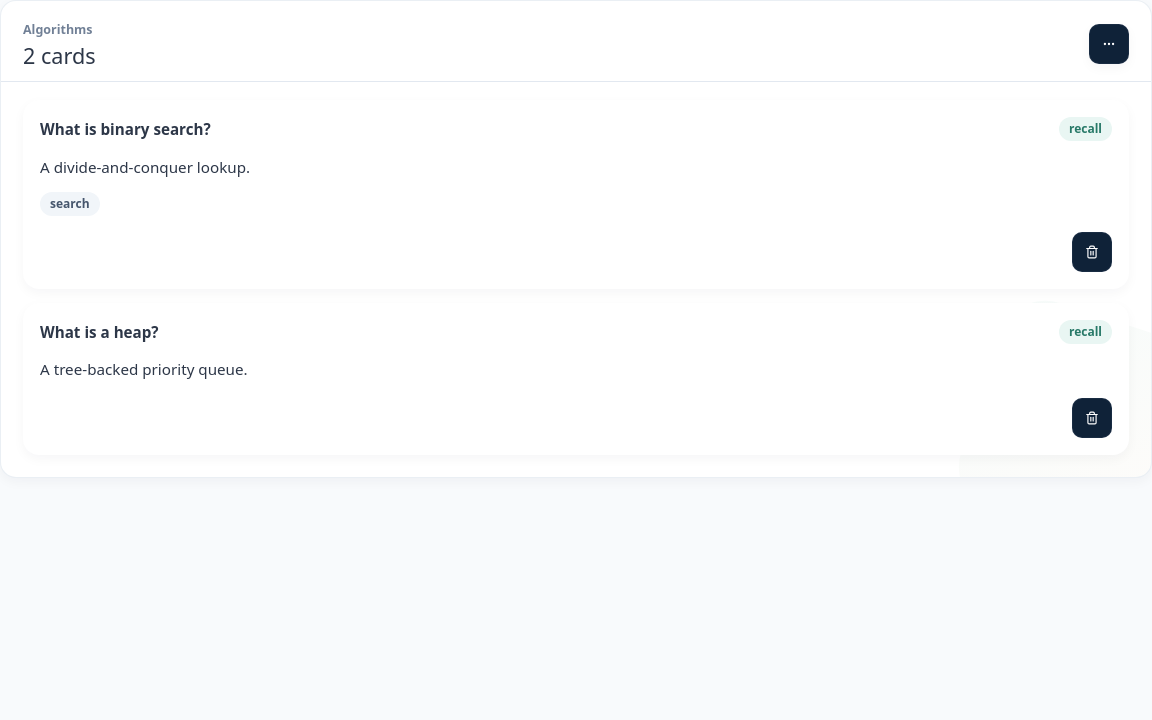
CardGrid › uses individual checkmarks instead of select-all or cancel controls
The image size is (1152, 720).
Press ArrowDown in the button named "card actions", box [1089,24,1129,64]
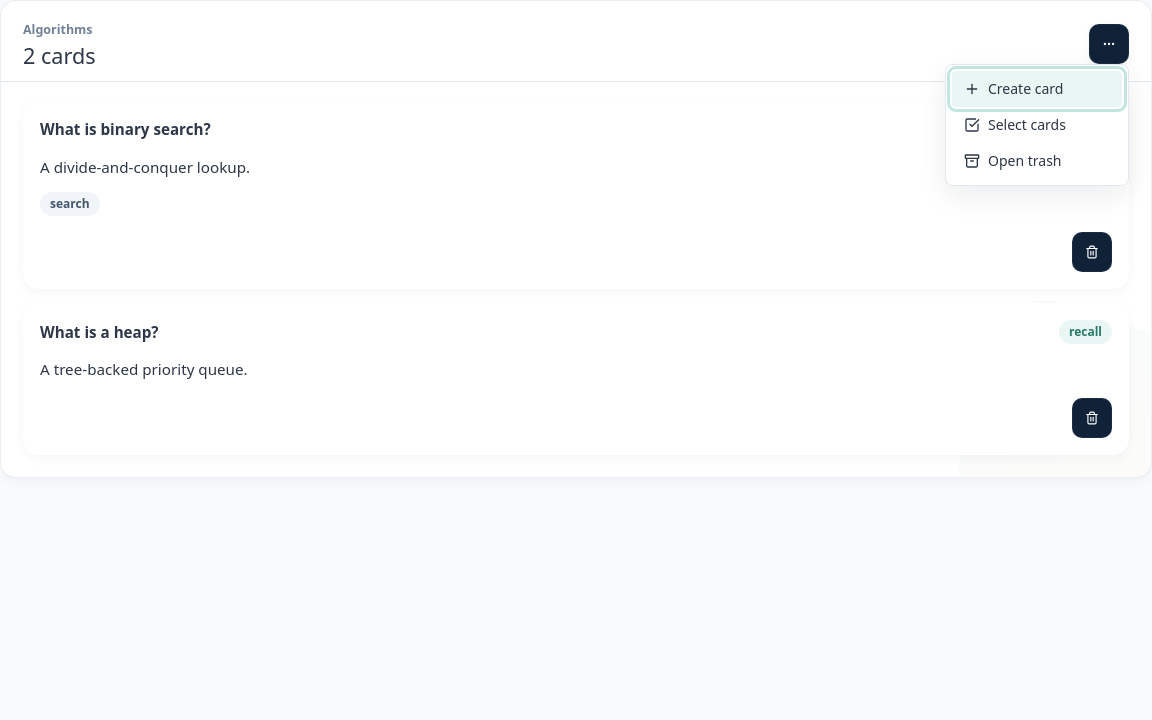
Click the menu item "Select cards": x=1015, y=124 [964,115,1066,134]
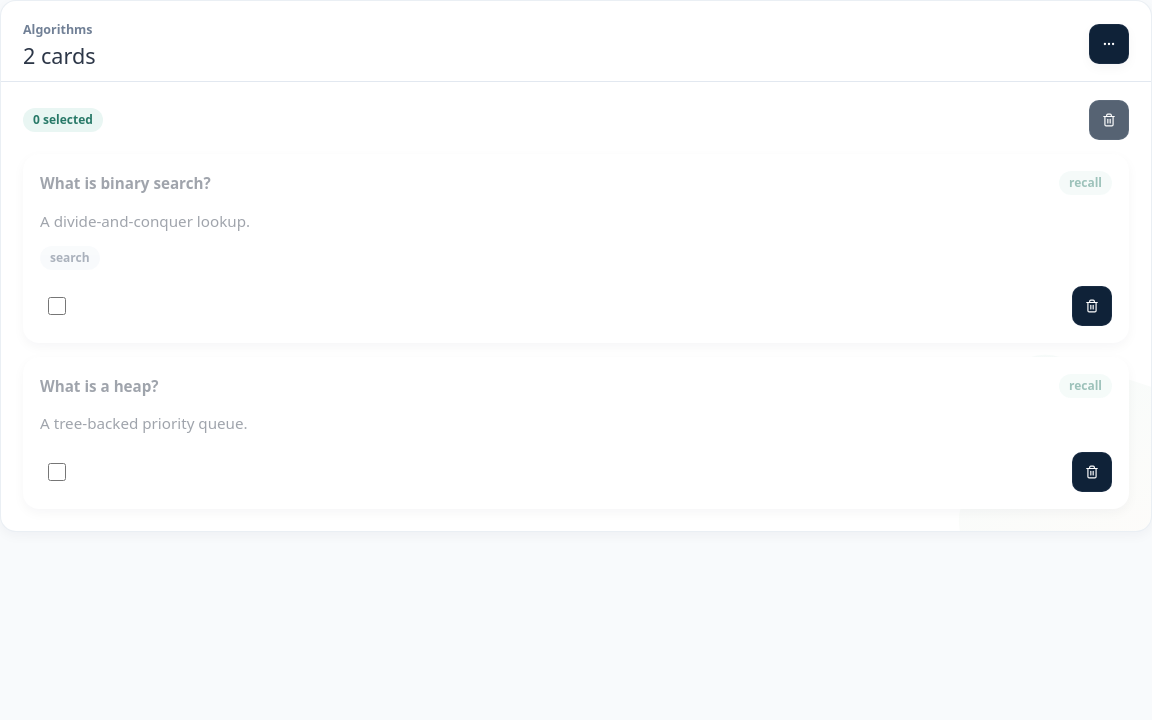
Click the checkbox named "select what is binary search?": x=57, y=306 [48,297,66,315]
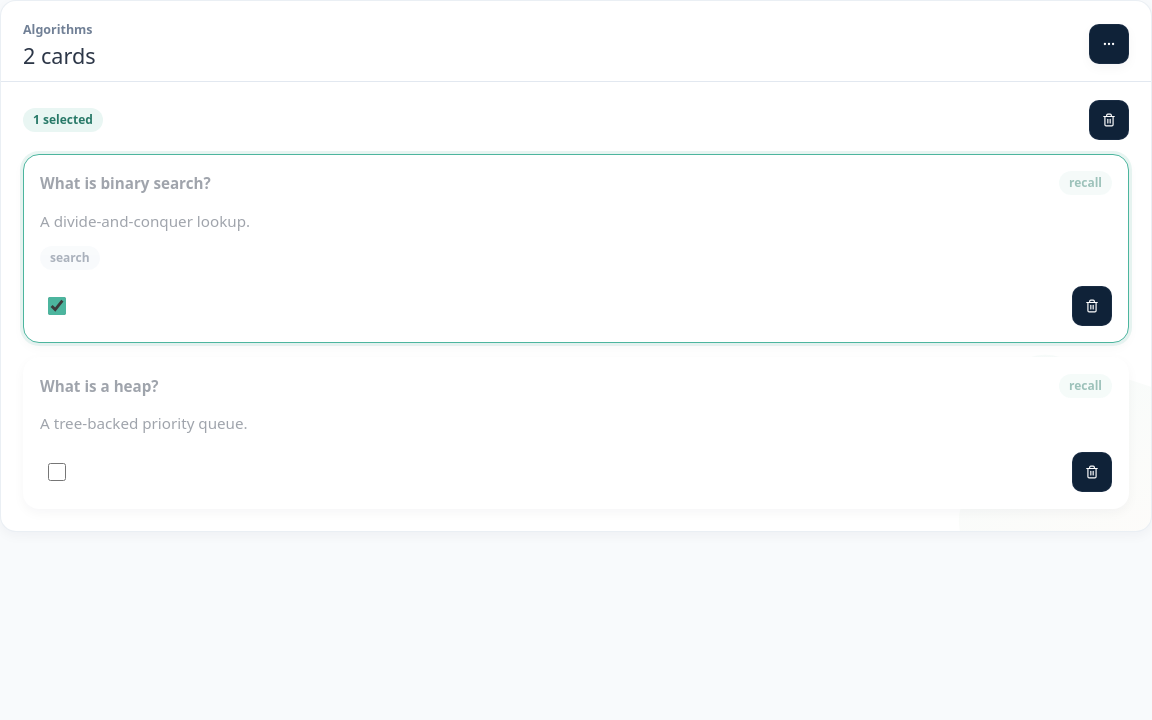
Check: the text "1 selected" is shown, box [23,108,103,132]
Click the checkbox named "select what is binary search?": x=57, y=306 [48,297,66,315]
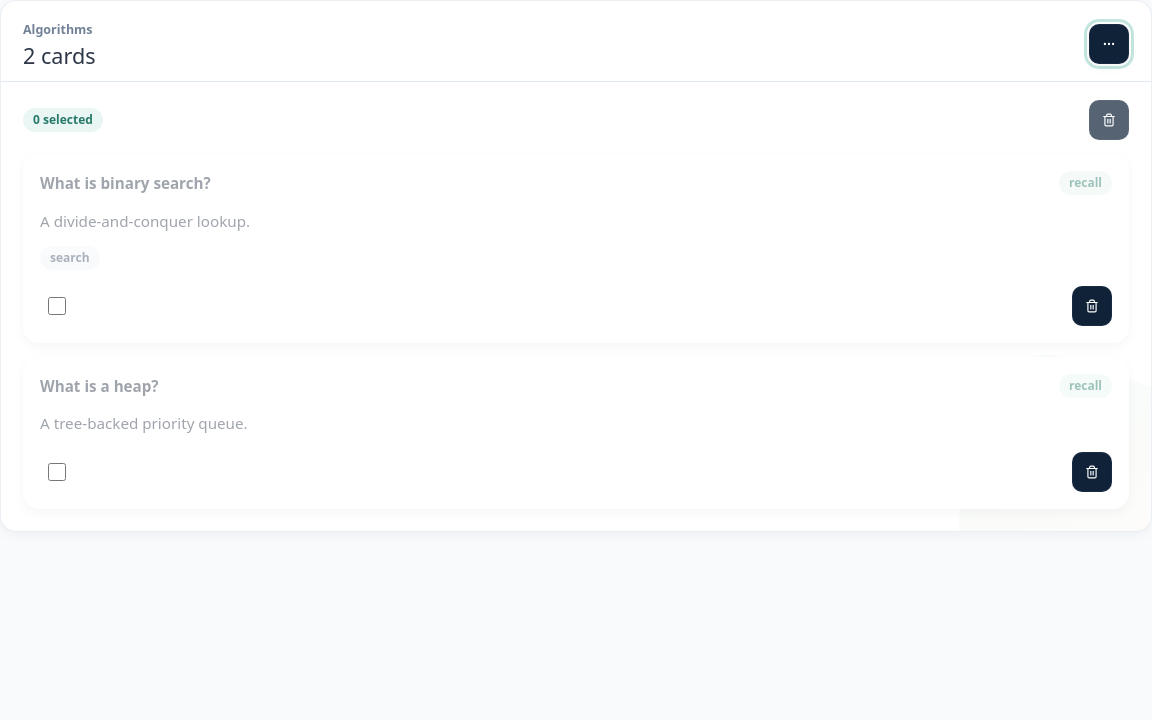
Check: the text "0 selected" is shown, box [23,108,103,132]
